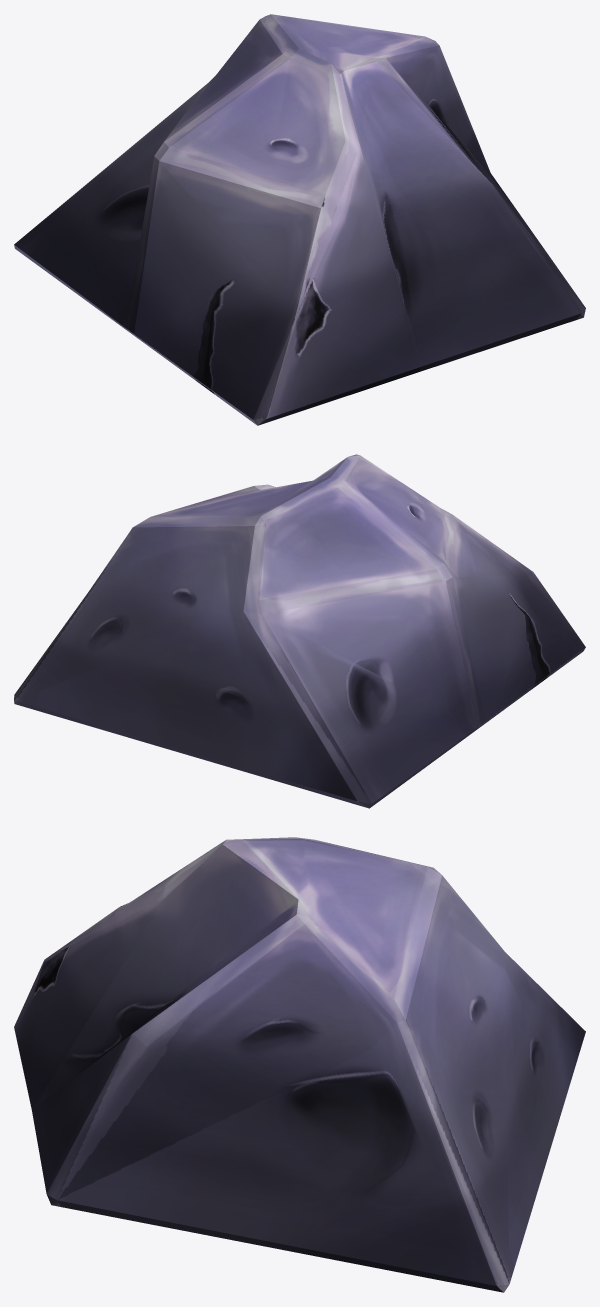
The model's file is Stone 3.fbx.
3 views of the same model, one above another, from view 1: azimuth 30°, elevation 25°; view 2: azimuth 150°, elevation 25°; view 3: azimuth 270°, elevation 25° (orthographic). The views are drawn at different scales.
Parts seen in each view (by area): view 1: Cube.025; view 2: Cube.025; view 3: Cube.025.
Part boxes in pixels (x1,y1,x2,y2): Cube.025: (14, 14, 585, 425); Cube.025: (14, 454, 585, 808); Cube.025: (14, 837, 585, 1292).
Size of the model in its own units: 844 by 476 by 814.
Materials: 1 (1 with a texture image).
